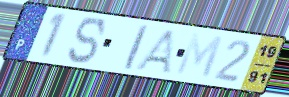1: (38, 11, 69, 60)
2: (212, 39, 251, 85)
A: (133, 29, 177, 76)
I: (122, 23, 150, 72)
M: (173, 31, 225, 81)
S: (65, 16, 107, 65)
